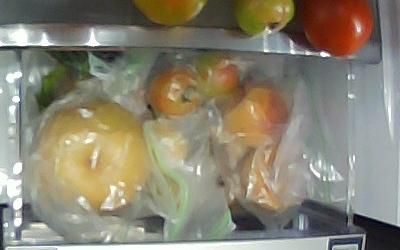peach_vinyl: (224, 88, 291, 151), (242, 143, 294, 211)
pear_vinyl: (39, 99, 147, 208)
tangerine_vinyl: (153, 123, 187, 167)
tomato_vinyl: (149, 66, 202, 117), (191, 53, 239, 94)
